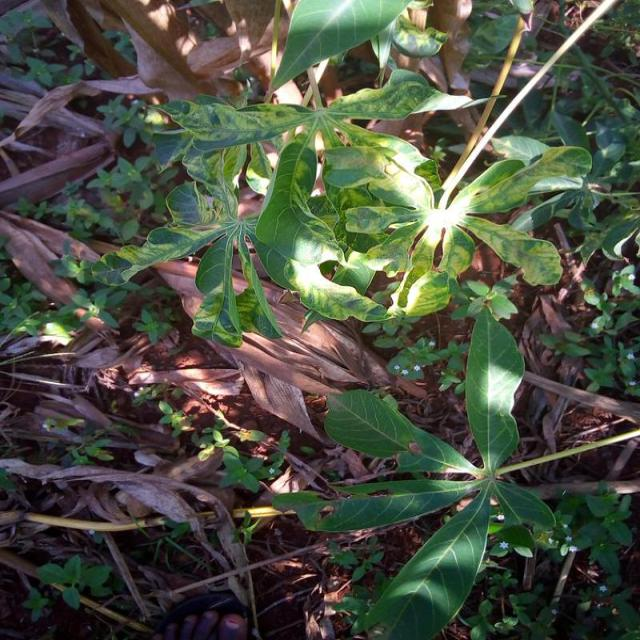cassava leaf: (353, 480, 491, 639), (269, 0, 410, 91), (464, 307, 525, 474)
